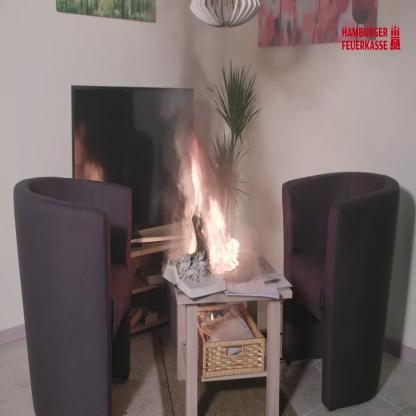fire: (167, 126, 220, 253), (196, 187, 250, 283)
